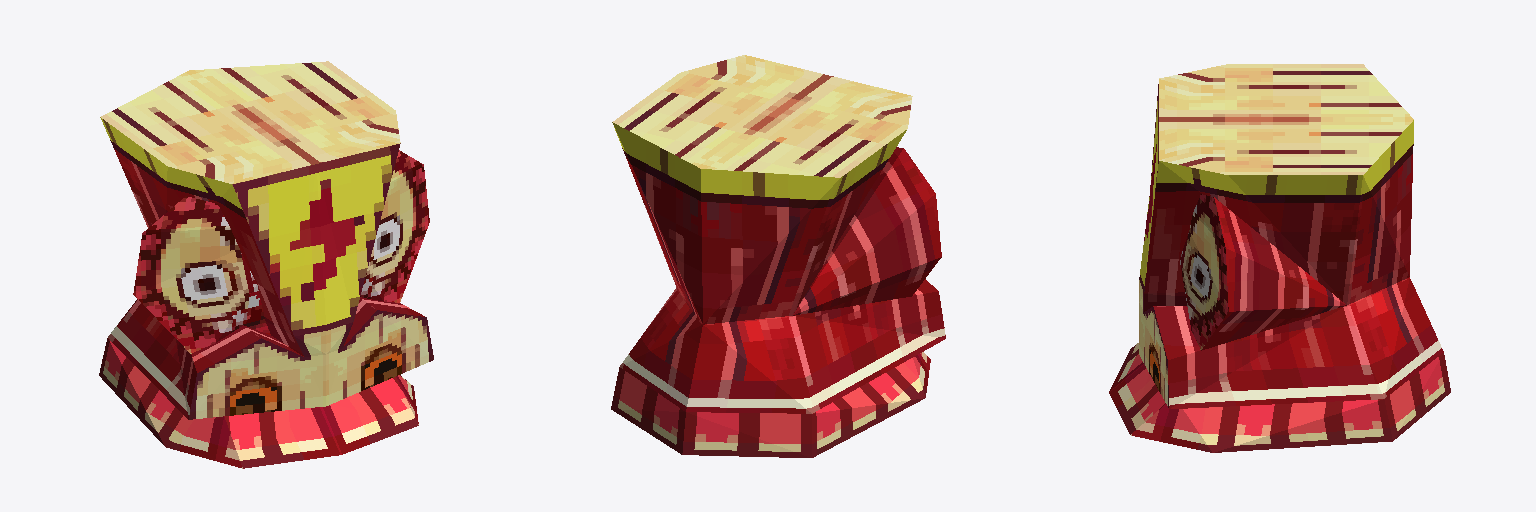
The picture shows the model from 3 angles: view 1: azimuth 30°, elevation 25°; view 2: azimuth 150°, elevation 25°; view 3: azimuth 270°, elevation 25°; orthographic projection.
Parts seen in each view (by area): view 1: Object_1; view 2: Object_1; view 3: Object_1.
Boxes of the visible parts, x1,y1,x2,y2 form: Object_1: [99, 61, 433, 468]; Object_1: [611, 55, 945, 457]; Object_1: [1109, 64, 1450, 452].
Size of the model in its own units: 1.14 by 1.01 by 1.14.
1 materials, 1 textured.